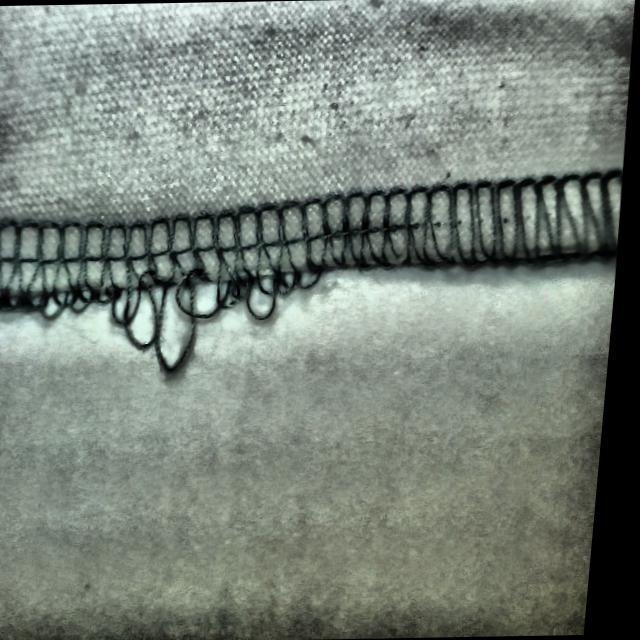Stitch: (25, 185, 336, 377)
